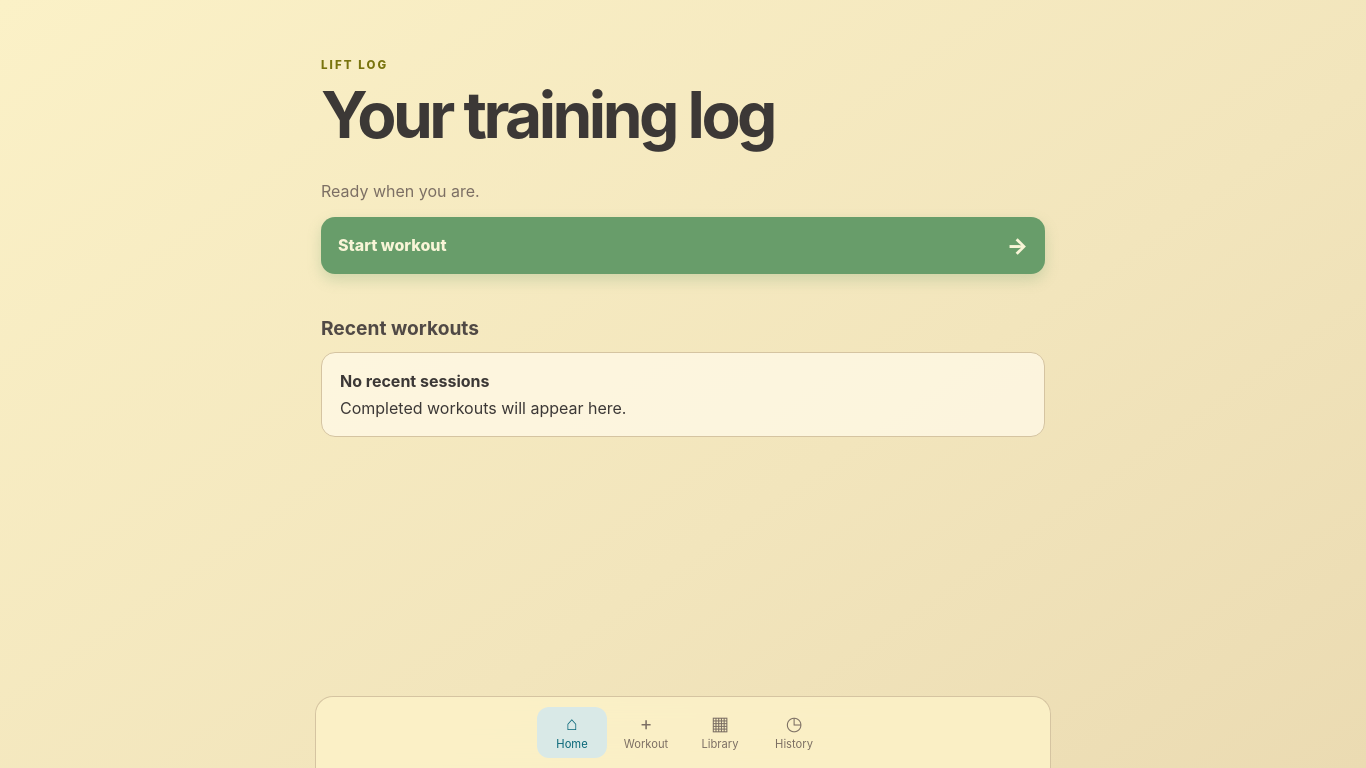
Test case: application shell actions › opens the add exercise form from the library
Click the button "▦ Library" at (720, 732), box [685,707,755,758]
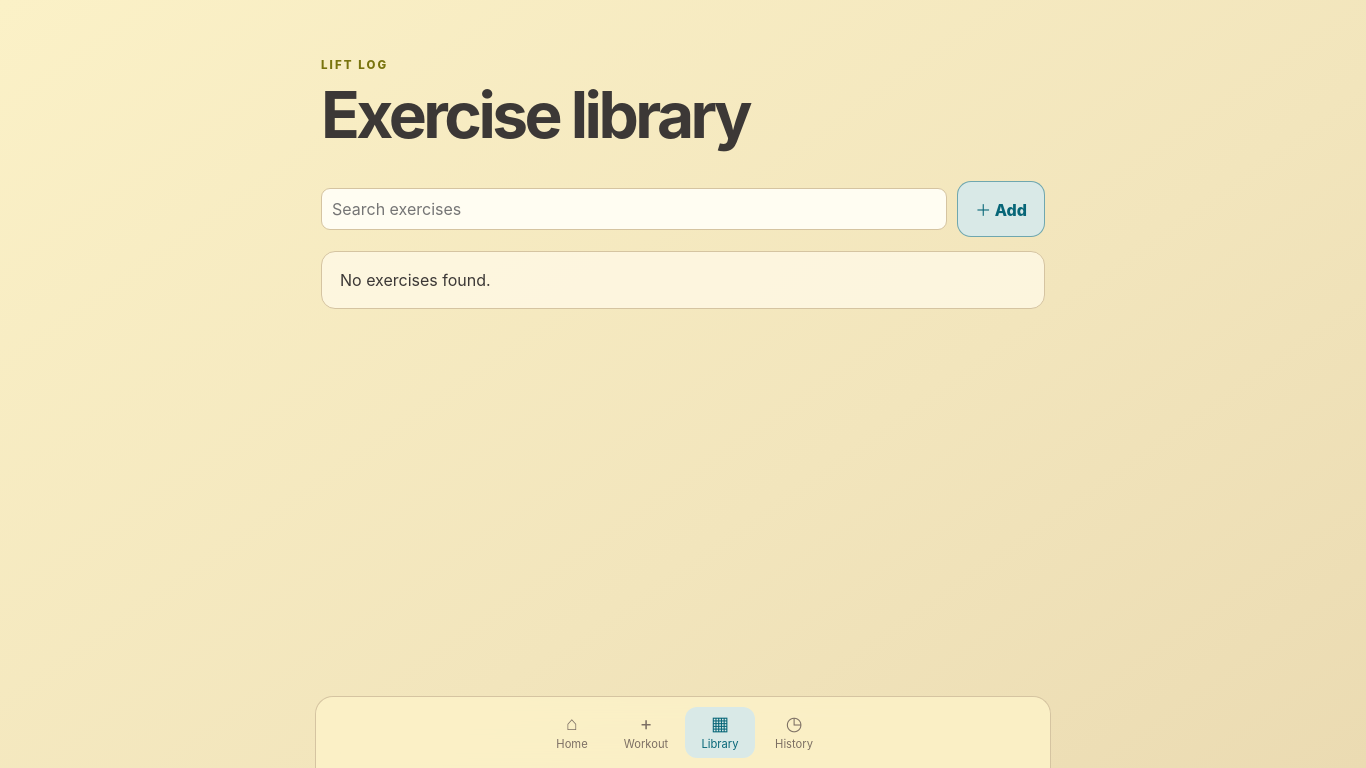
Result: the button "＋ Add" is shown
Click the button "＋ Add" at (1001, 209), box [957,181,1045,237]
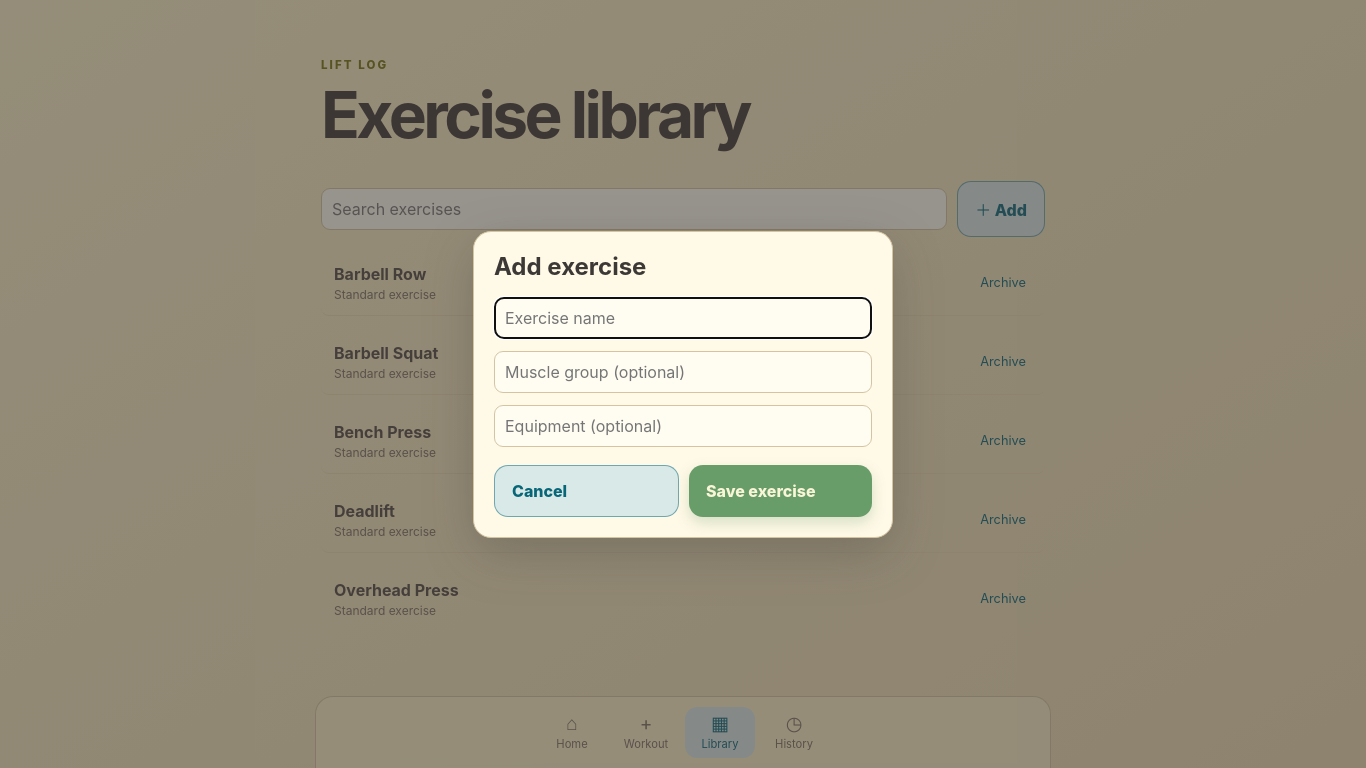
Result: the heading "Add exercise" is shown at [494,252,646,280]
